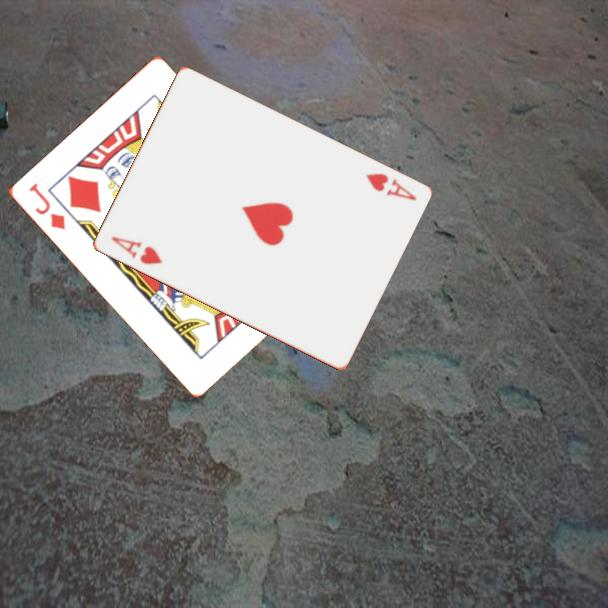d11: (25, 179, 68, 233)
h01: (107, 233, 165, 268), (361, 170, 419, 204)
